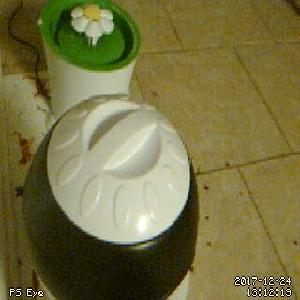fountain: (37, 1, 141, 72)
